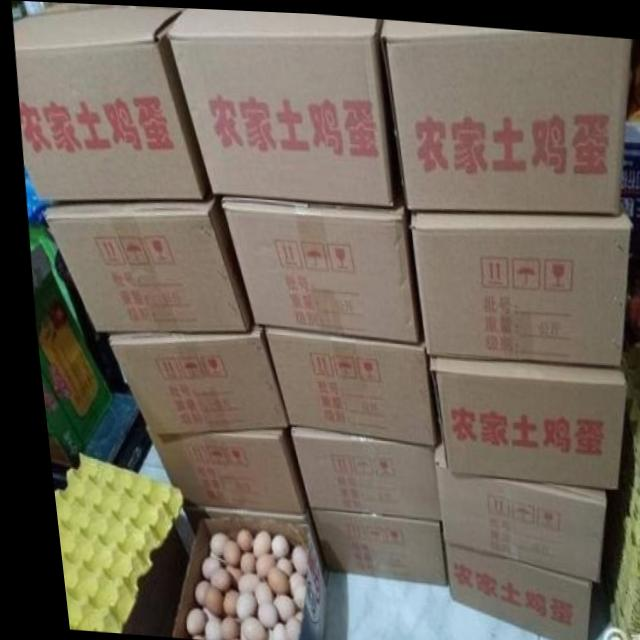box: (379, 15, 631, 210), (167, 6, 390, 204), (12, 2, 205, 201), (405, 200, 629, 359), (217, 182, 416, 340), (37, 185, 245, 331), (419, 349, 618, 486), (423, 434, 595, 580), (100, 316, 280, 435), (257, 322, 430, 442), (156, 516, 314, 640), (24, 242, 103, 458), (135, 421, 296, 513), (432, 542, 577, 640), (281, 424, 429, 518), (298, 506, 433, 581), (107, 526, 176, 636), (617, 115, 640, 239)
